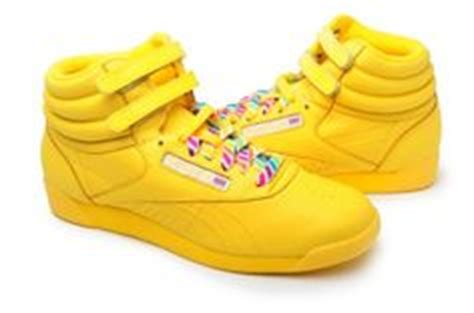???: (39, 13, 442, 276)
